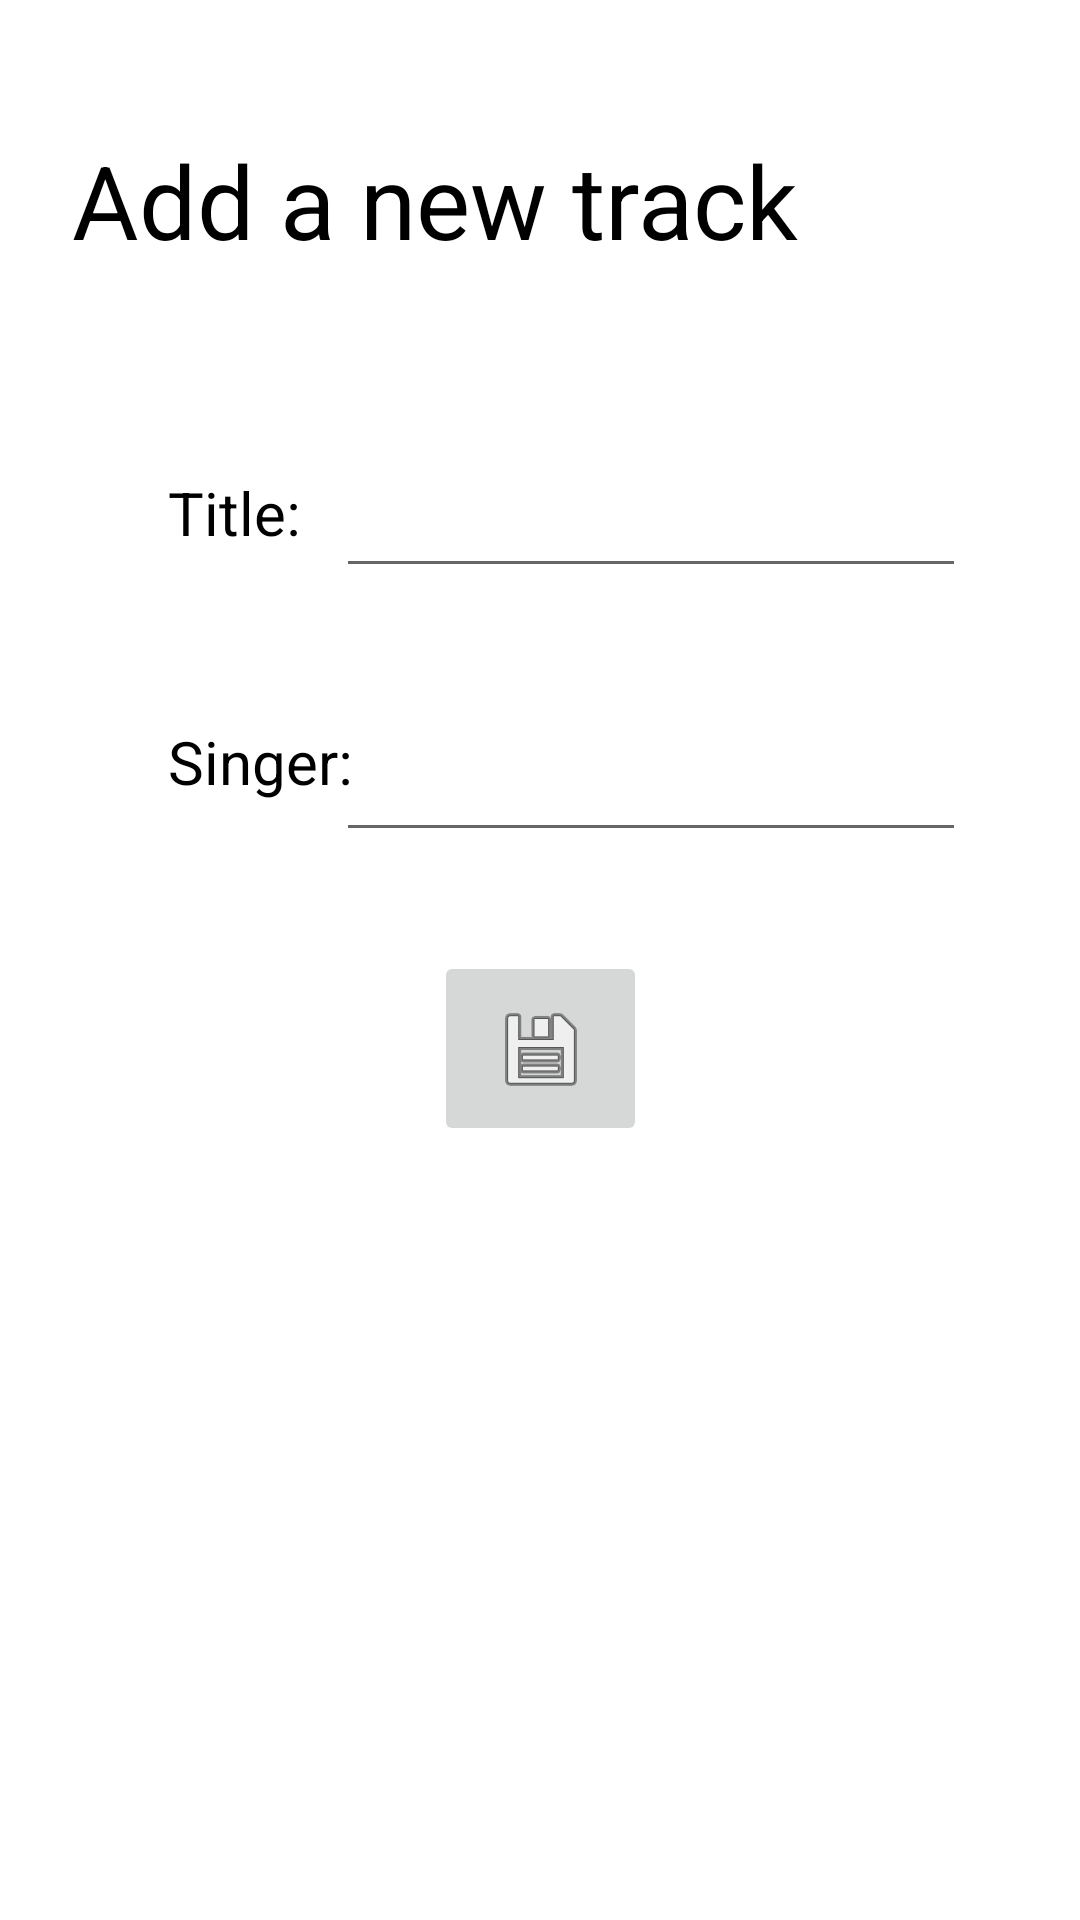

Locate icon controls on the screen. Image size 1080px x 1920px, boxes as (x1, y1, x2, y2).
save: (446, 969, 635, 1128)
